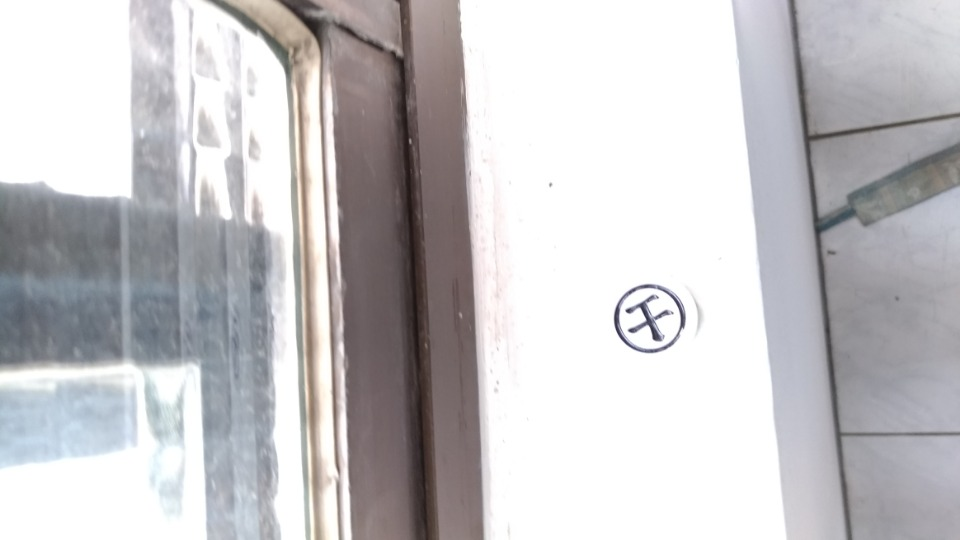b-advisor: (594, 275, 717, 368)
